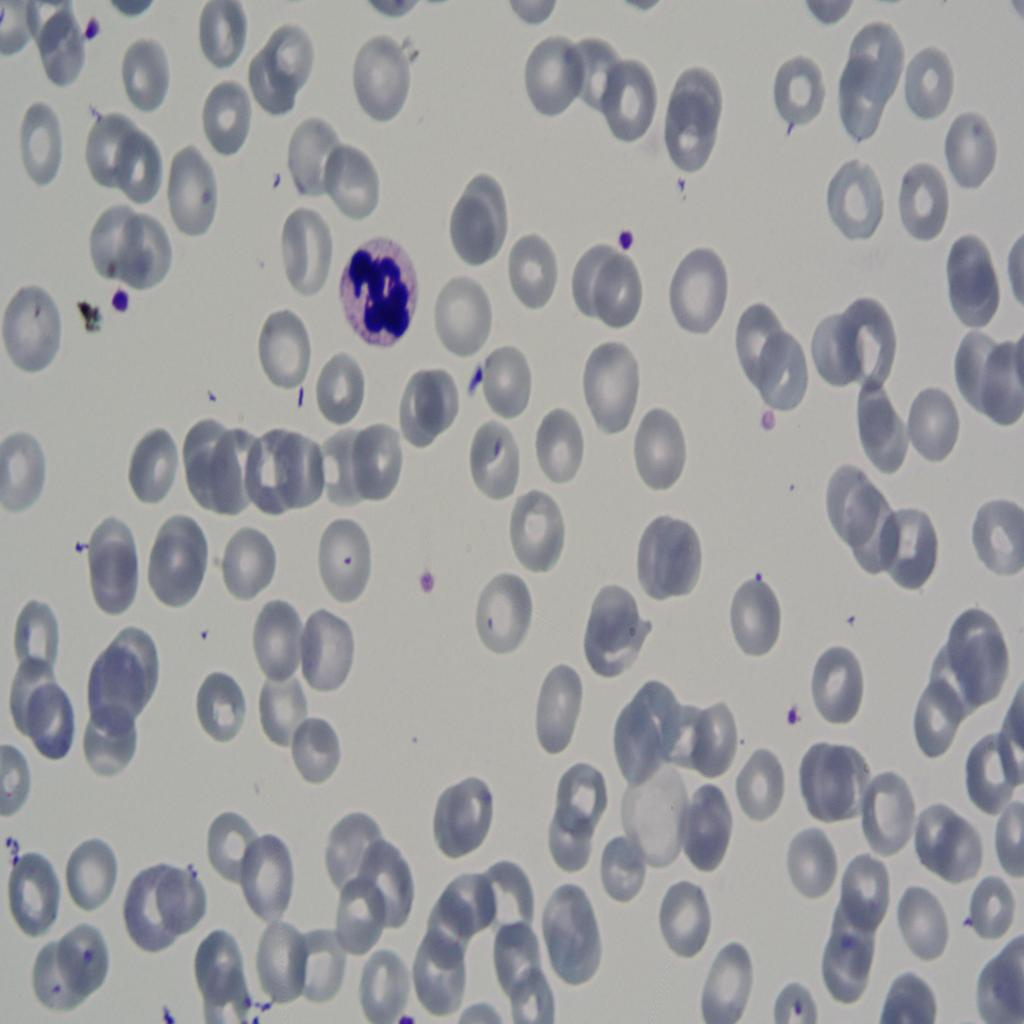Neutrofil: (328, 233, 421, 357)
Platelet: (782, 684, 816, 755), (100, 272, 140, 332), (745, 393, 786, 444), (408, 556, 444, 613), (78, 12, 109, 64), (613, 219, 637, 276)
